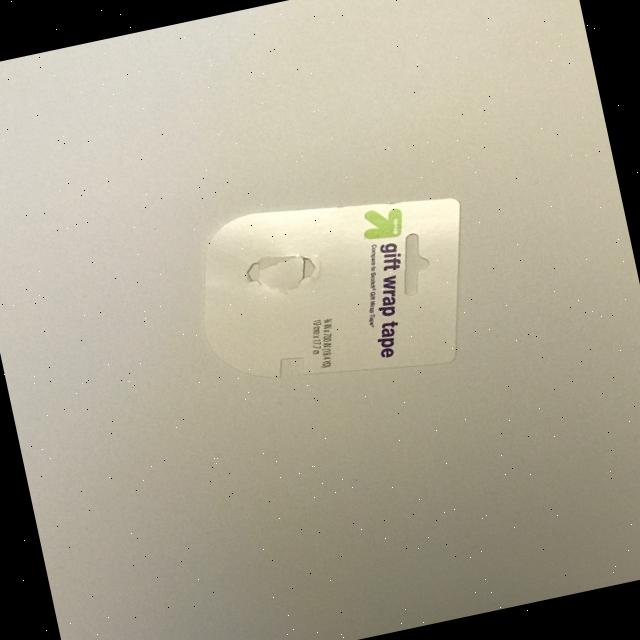paper: (180, 168, 492, 412)
